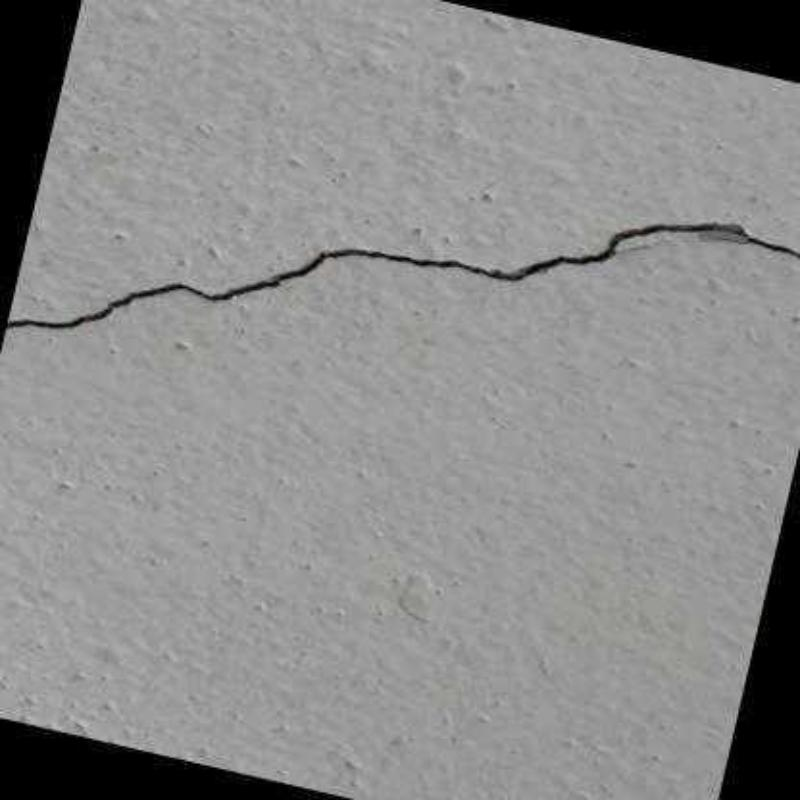pothole: (6, 220, 800, 329)
